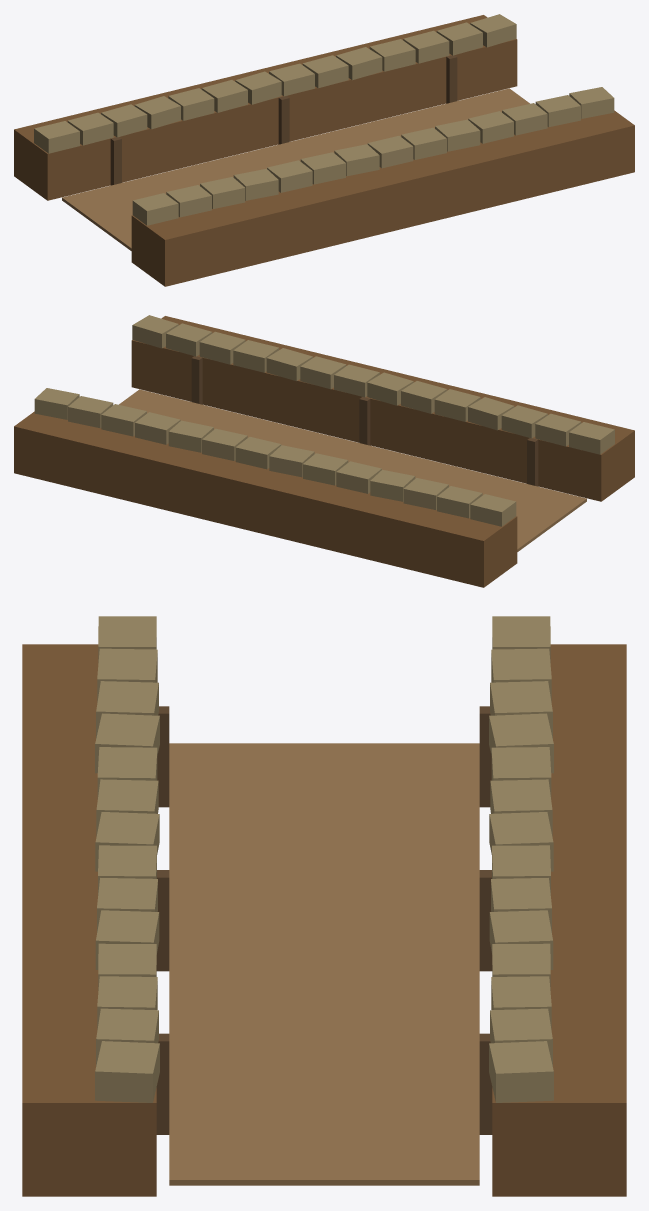
File: trincheira.glb
The picture shows the model from 3 angles, top to bottom: view 1: azimuth 30°, elevation 25°; view 2: azimuth 150°, elevation 25°; view 3: azimuth 270°, elevation 25°; orthographic projection. The views are drawn at different scales.
Visible parts, largest first — view 1: trincheira; view 2: trincheira; view 3: trincheira.
Part boxes in pixels (box(x1,y1,x2,y2)): trincheira: box(14, 14, 634, 286); trincheira: box(14, 315, 634, 587); trincheira: box(22, 616, 626, 1196).
Bounding box in the file's own units: 8.4 × 1.05 × 4.68.
